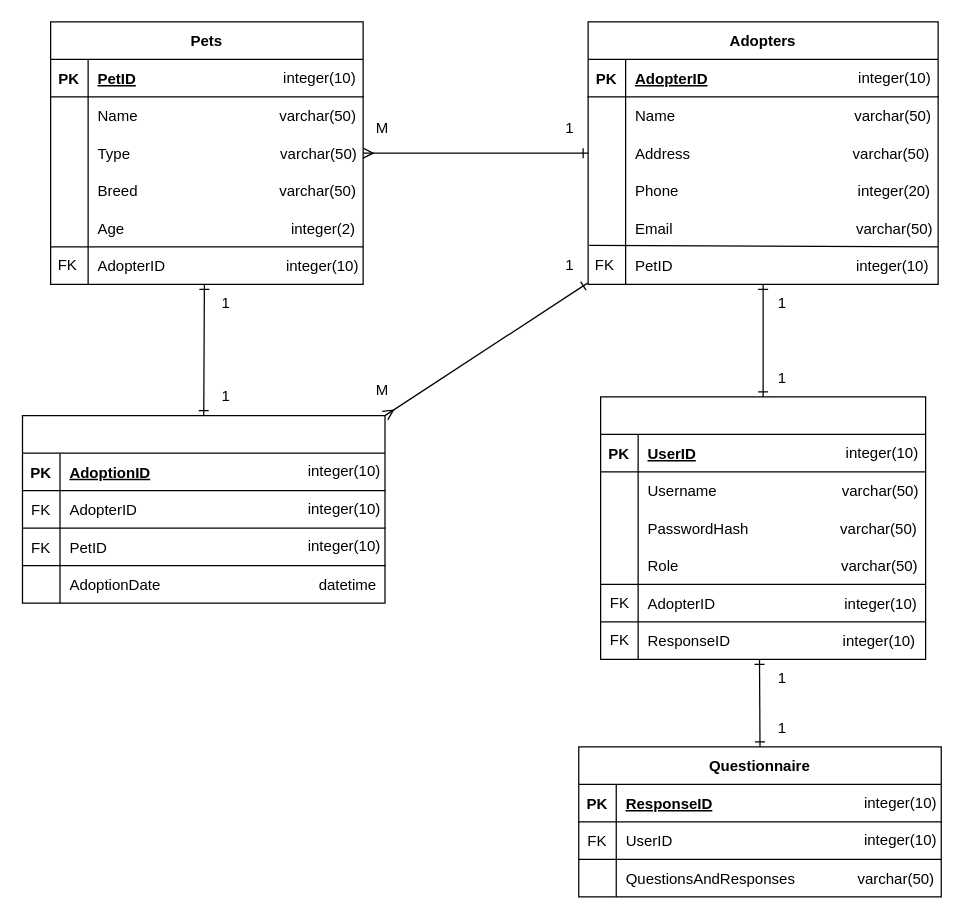
The diagram is 969 pixels wide and 919 high, and some of its shapes have lost their labels. The shapes that lost their labels are listed below. From the top down, each one's box as (x1, y1, x2, y2) in pixels, then its label:
(21, 414, 385, 603): Adoptions
(599, 396, 926, 659): Users
